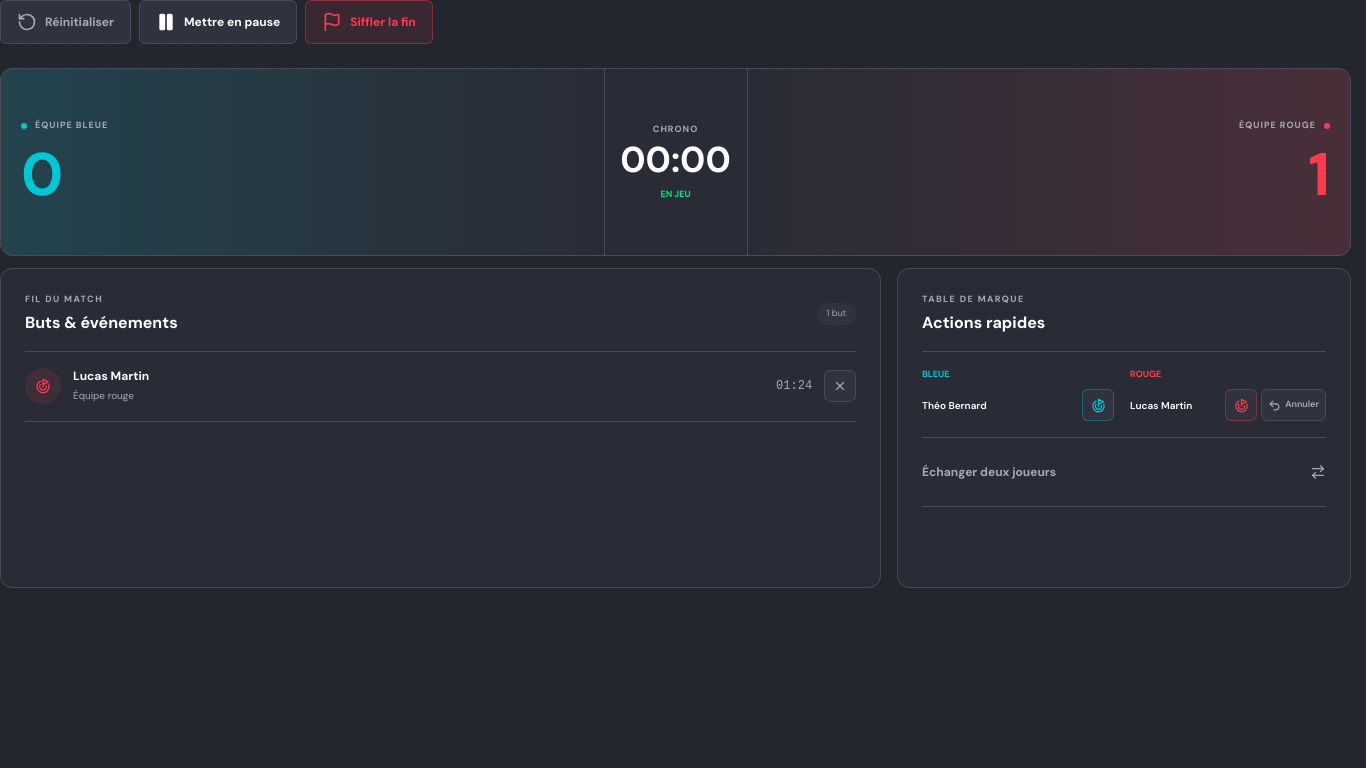
Scenario: LiveMatchPage › permet d’échanger deux joueurs d’équipes opposées
Click the button "Échanger deux joueurs" at (989, 472), box left=922, top=450, right=1326, bottom=494
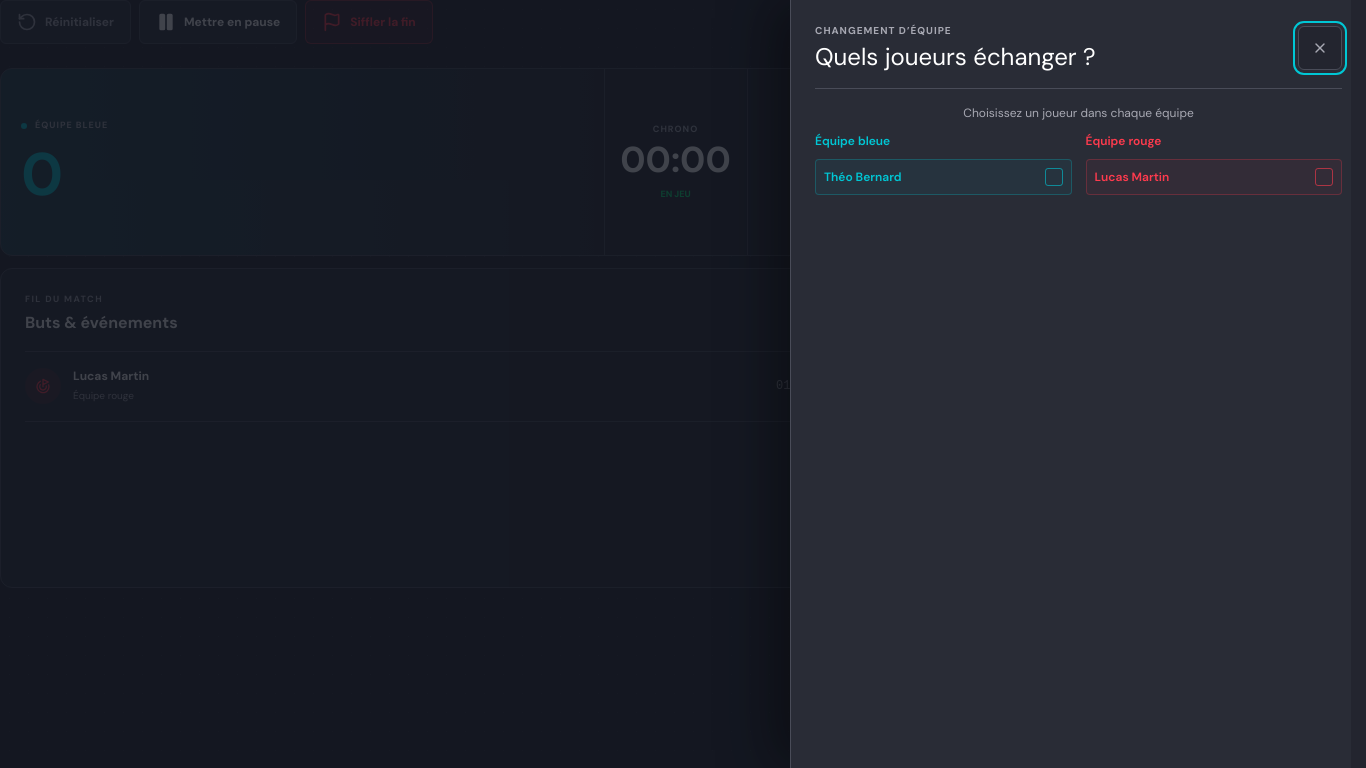
Click the button with aria-label "Sélectionner Lucas Martin dans l'équipe rouge" at (1214, 177), box left=1086, top=159, right=1342, bottom=195
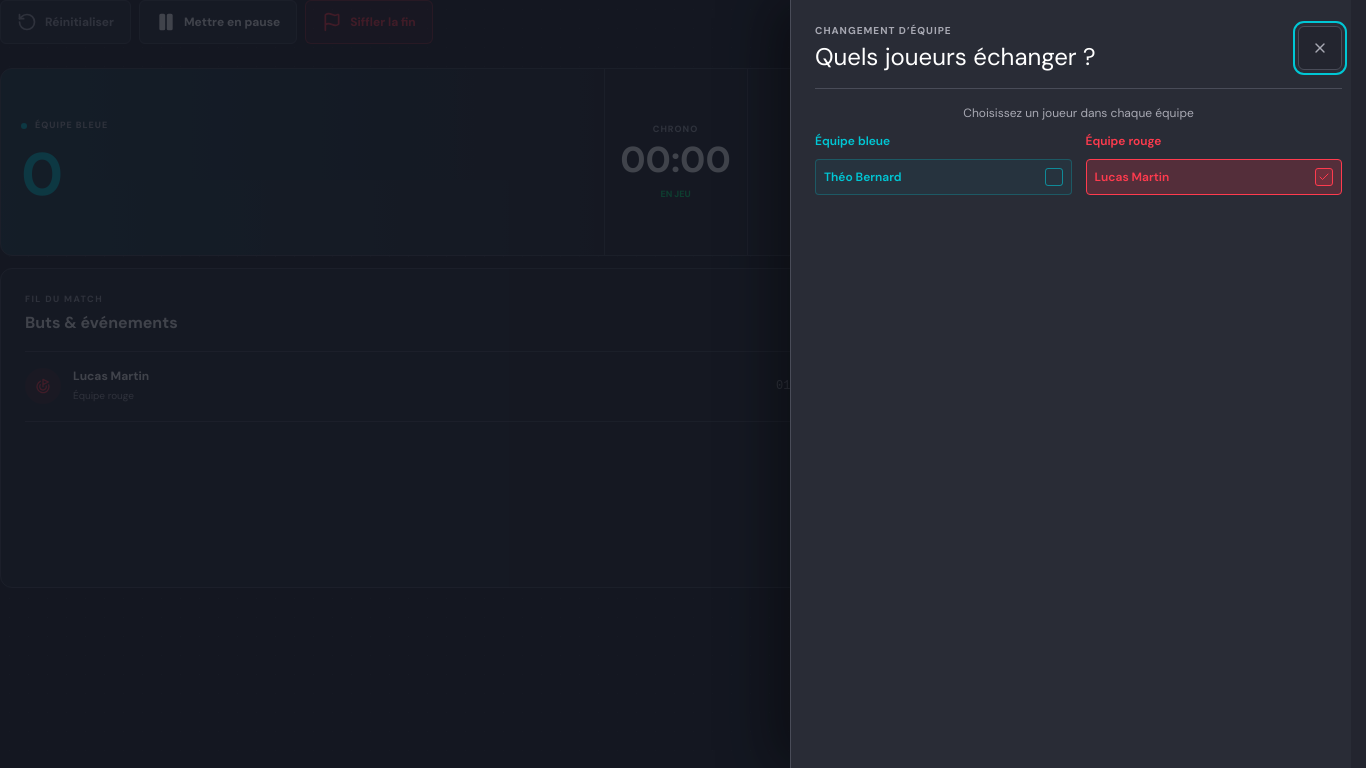
Expected: the 2nd icon is shown, left=1318, top=171, right=1330, bottom=183
Click the button with aria-label "Sélectionner Théo Bernard dans l'équipe bleue" at (943, 177), box left=815, top=159, right=1072, bottom=195
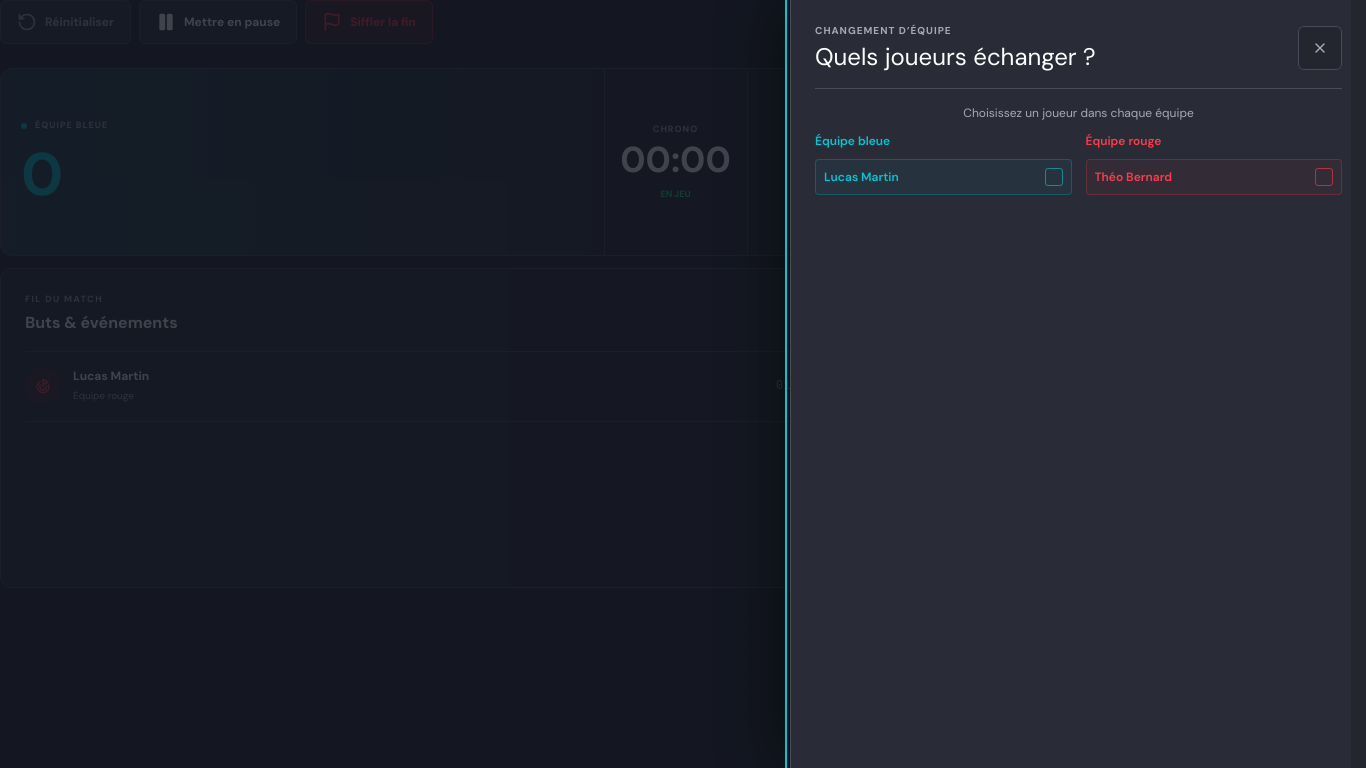
Expected: the button with aria-label "Sélectionner Théo Bernard dans l'équipe rouge" is shown, left=1086, top=159, right=1342, bottom=195
Expected: the button with aria-label "Sélectionner Lucas Martin dans l'équipe bleue" is shown, left=815, top=159, right=1072, bottom=195
Press Escape
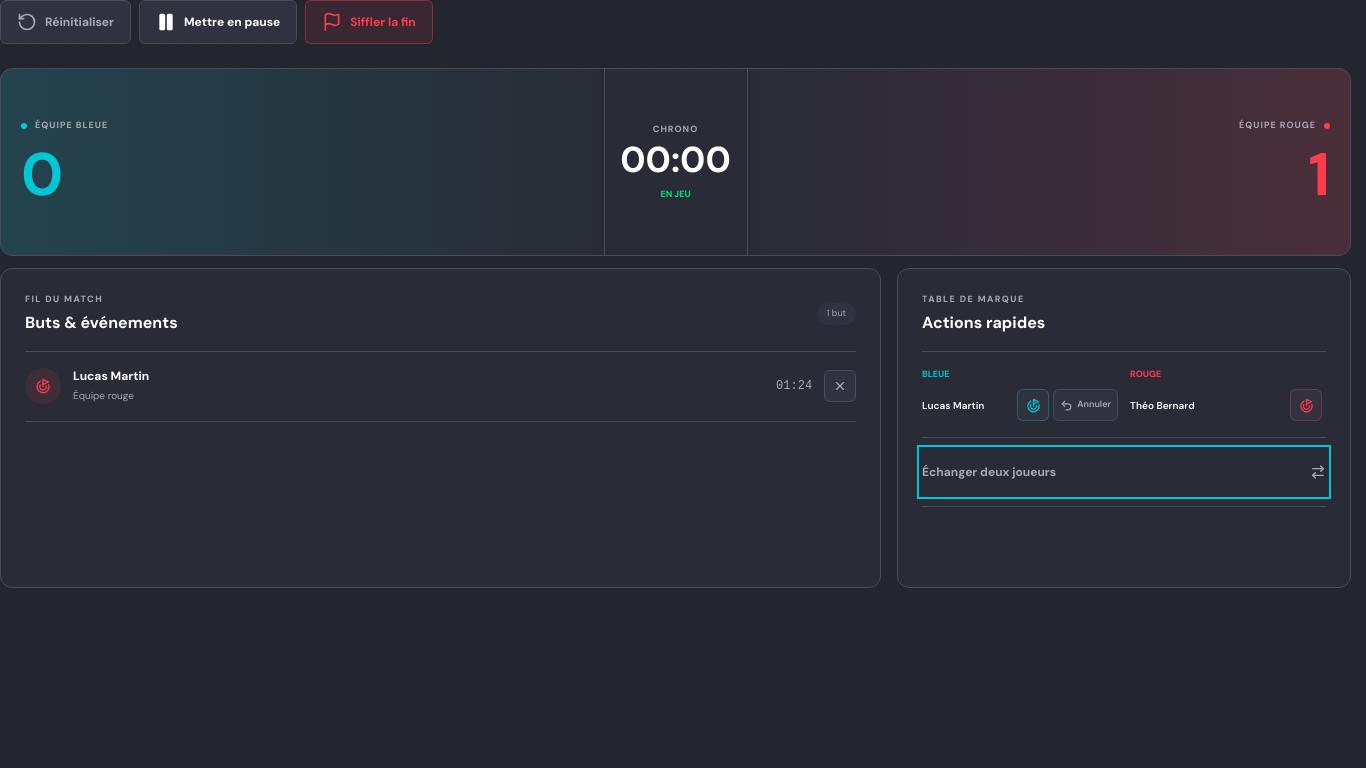
Expected: the heading "Quels joueurs échanger ?" is gone
